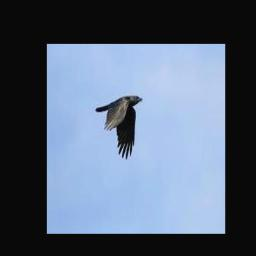Crow: (96, 96, 143, 160)
